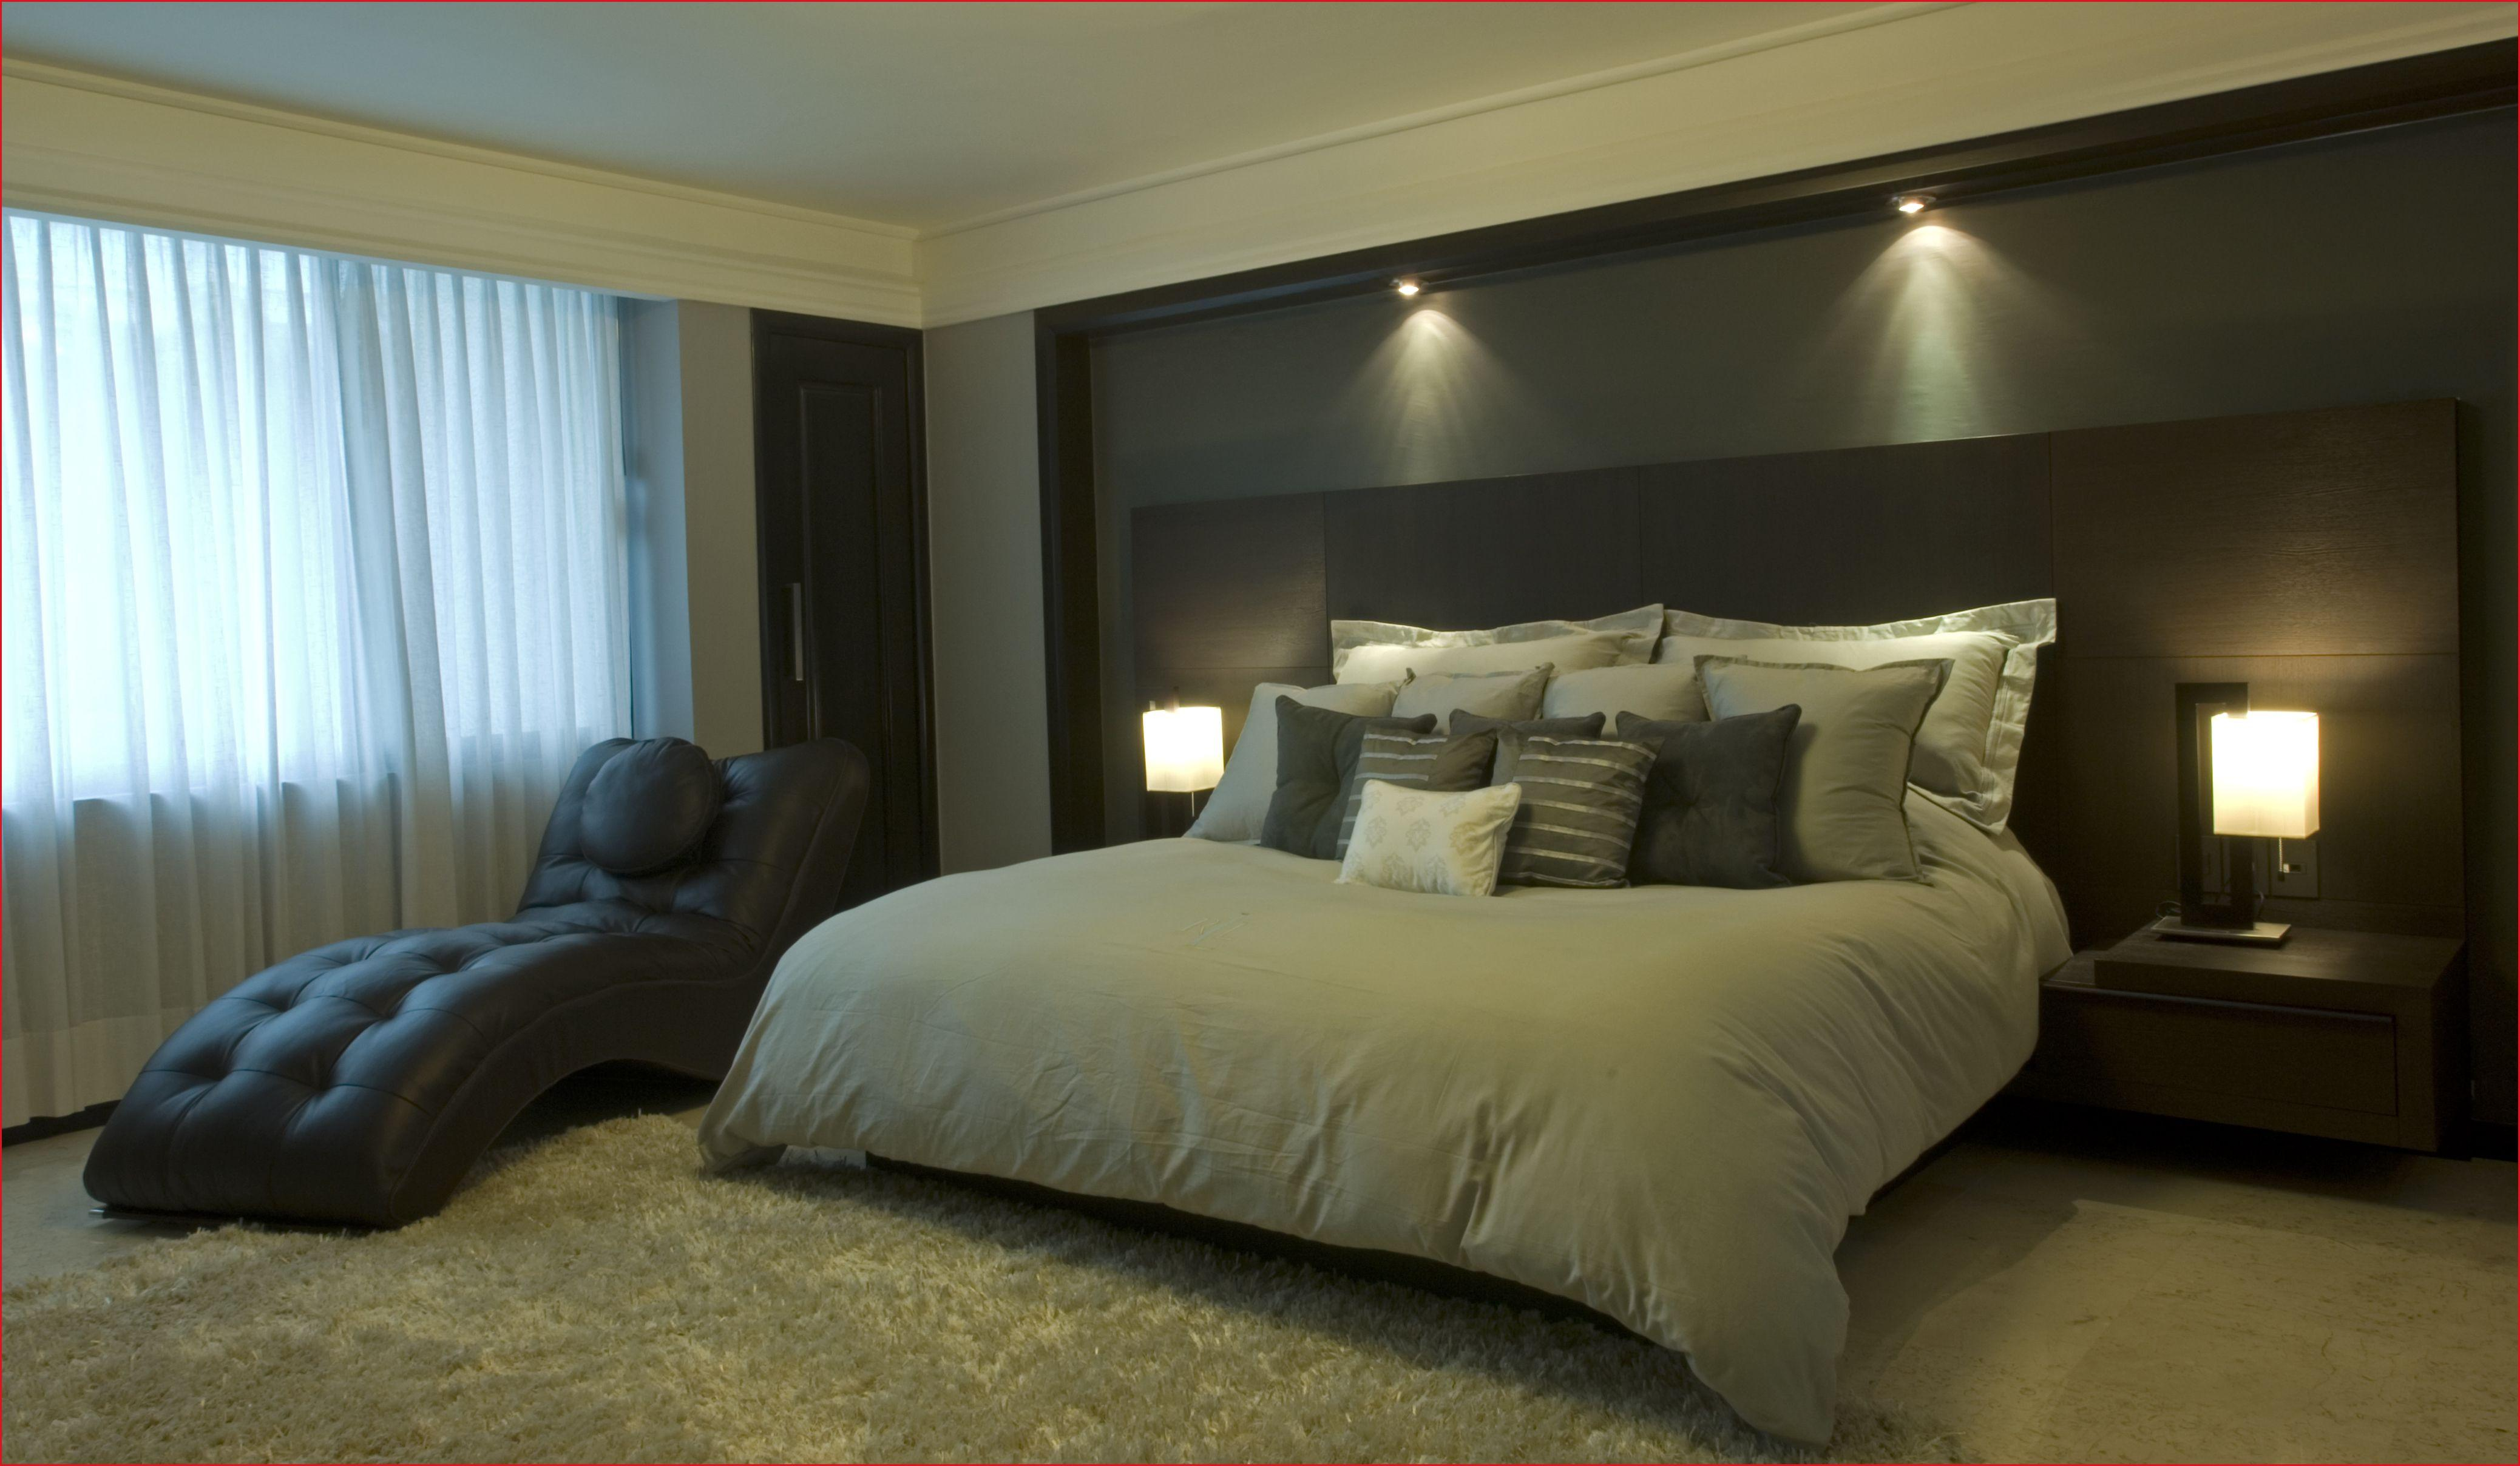bed: (983, 653, 2000, 1189)
